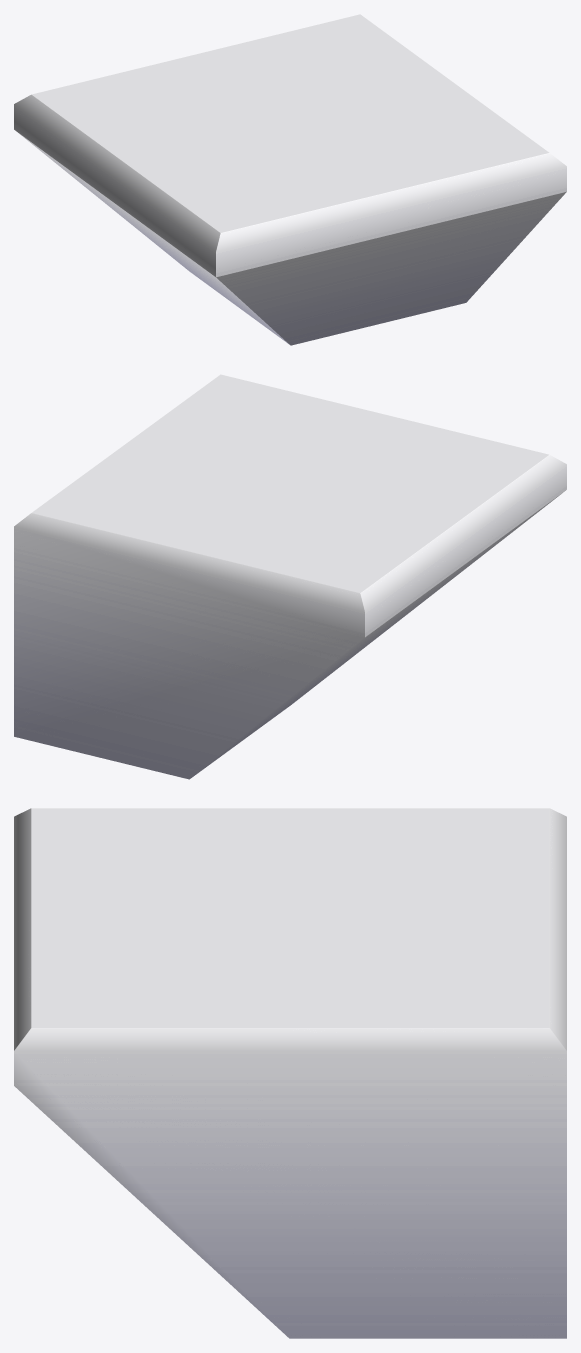
File: brick-kit--none-hq-brick-slope-corner-outside-inverted-2x2.glb
The picture shows the model from 3 angles, top to bottom: view 1: azimuth 30°, elevation 25°; view 2: azimuth 150°, elevation 25°; view 3: azimuth 270°, elevation 25°; orthographic projection. The views are drawn at different scales.
Parts seen in each view (by area): view 1: none-hq-brick-slope-corner-outside-inverted-2x2; view 2: none-hq-brick-slope-corner-outside-inverted-2x2; view 3: none-hq-brick-slope-corner-outside-inverted-2x2.
Boxes of the visible parts, bbox=[...] form: none-hq-brick-slope-corner-outside-inverted-2x2: bbox=[14, 14, 566, 345]; none-hq-brick-slope-corner-outside-inverted-2x2: bbox=[14, 374, 566, 779]; none-hq-brick-slope-corner-outside-inverted-2x2: bbox=[14, 808, 566, 1338].
Size of the model in its own units: 0.159 by 0.096 by 0.1585.
1 material, 1 textured.
